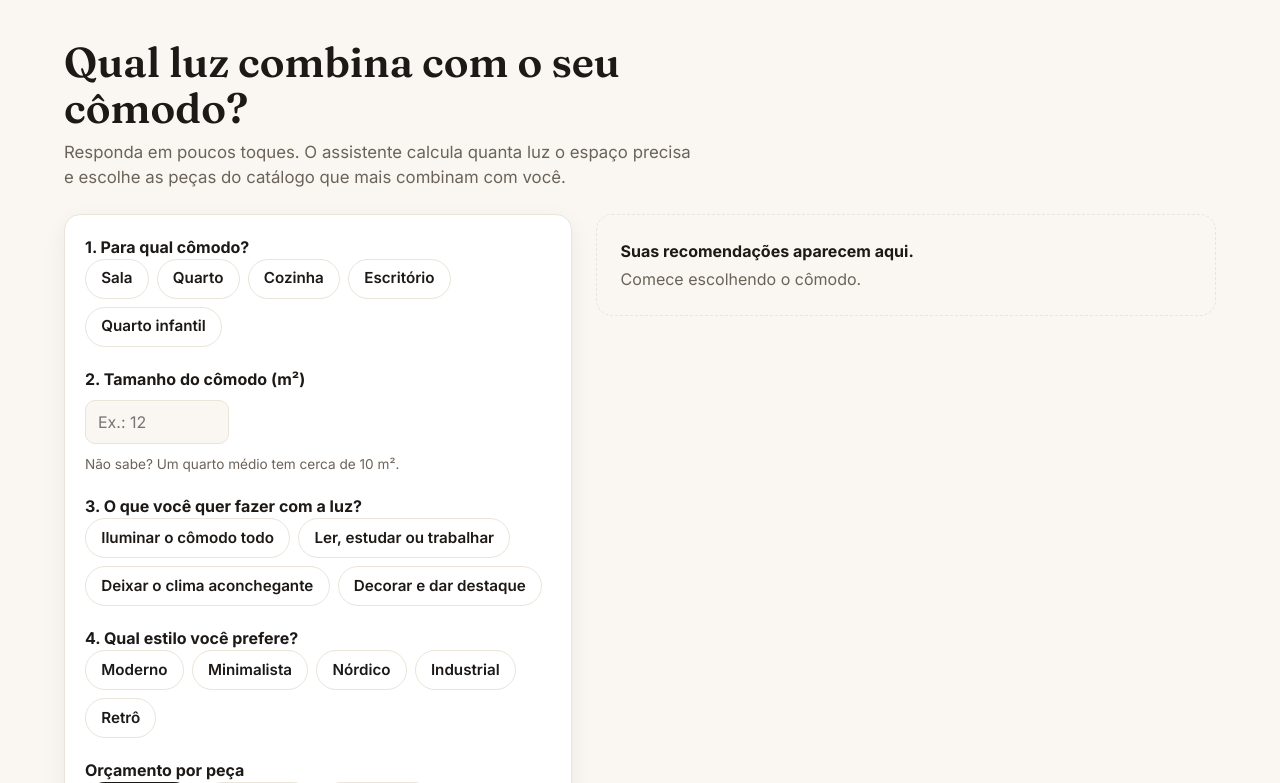
Test: pagina Assistente › adiciona a recomendação ao carrinho
The width and height of the screenshot is (1280, 783).
Click the button "Escritório" at (399,279), box [348,259,451,299]
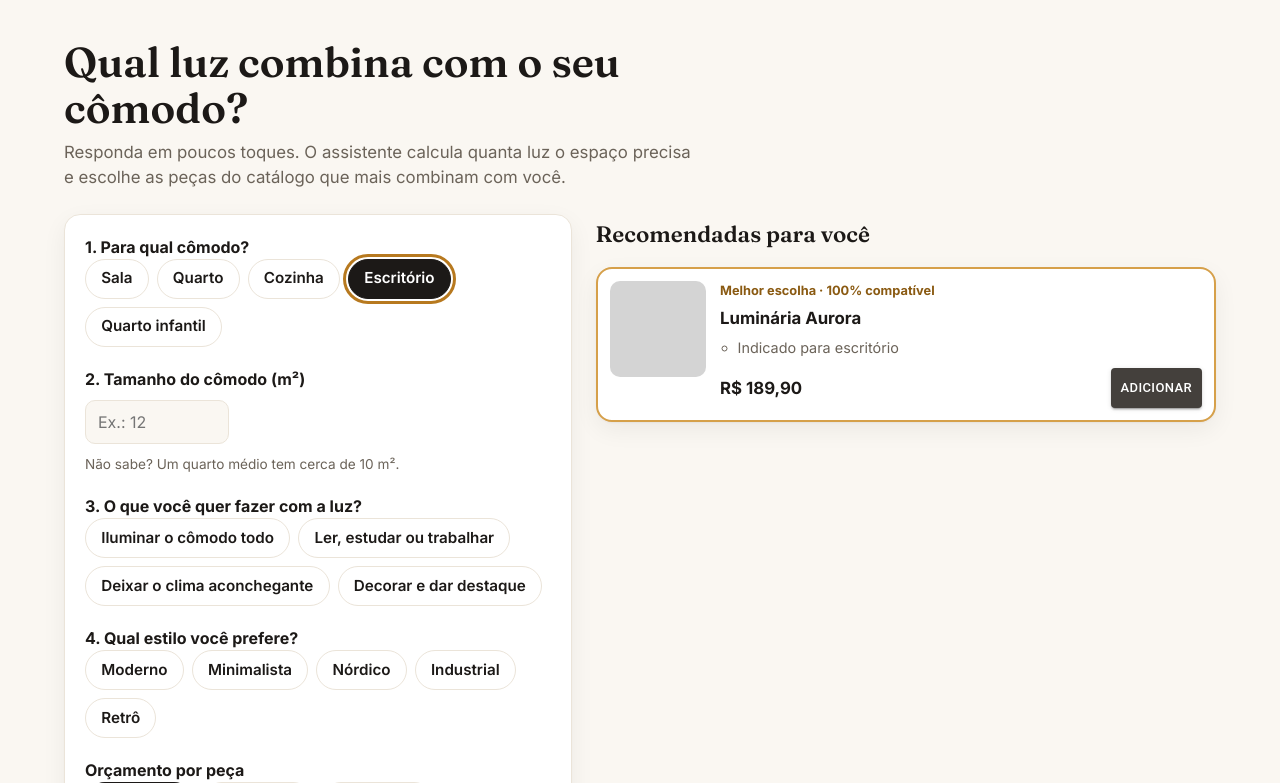
Click the button "Adicionar" at (1156,388), box [1111,368,1202,408]
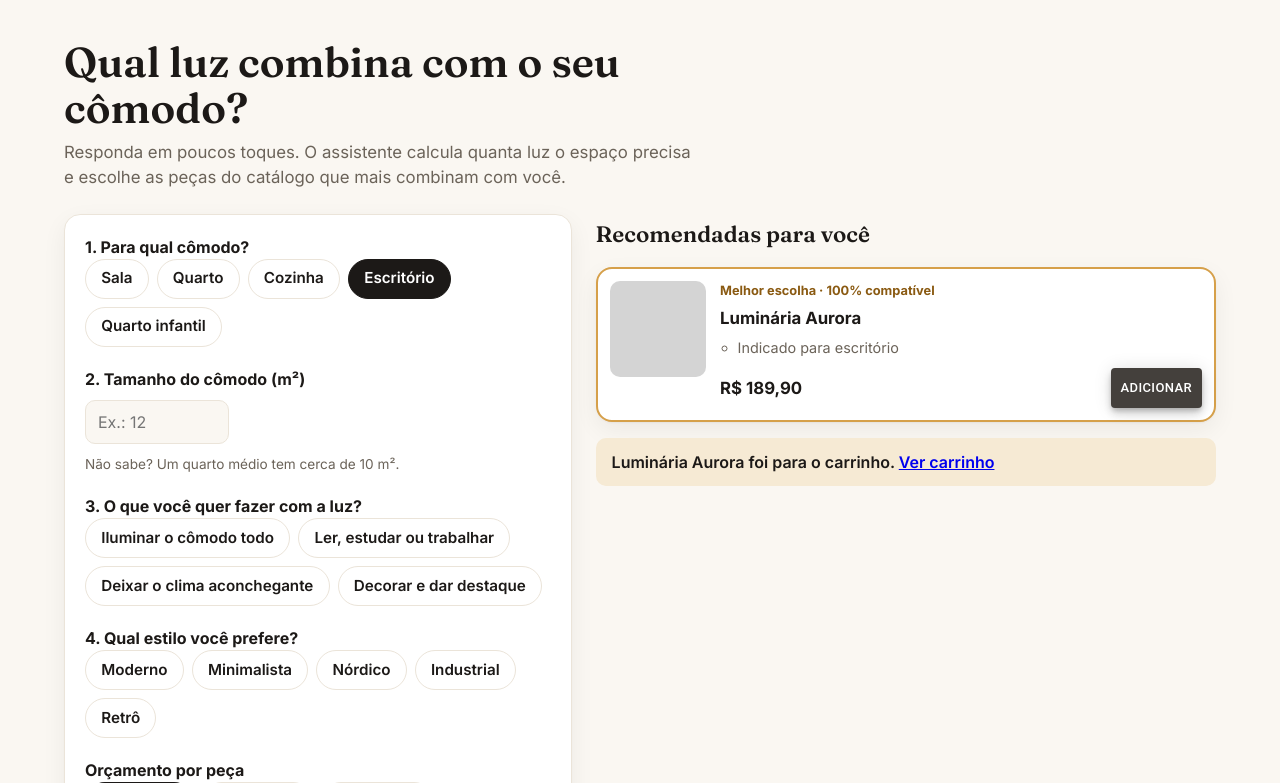
Check: the text "Luminária Aurora foi para o carrinho. Ver carrinho" is shown, box [596,438,1216,486]
